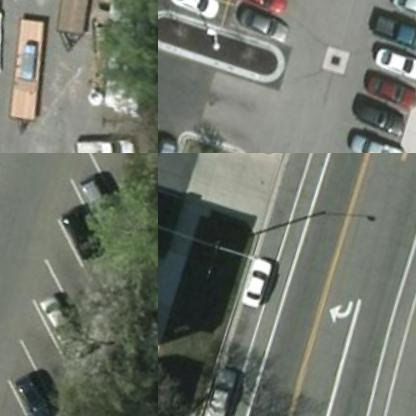car: (71, 110, 144, 152), (36, 292, 90, 345), (56, 202, 109, 255), (76, 169, 129, 222), (14, 369, 67, 415), (242, 0, 298, 39), (241, 248, 279, 305), (360, 89, 416, 127), (210, 362, 248, 415), (370, 63, 415, 102), (373, 4, 415, 43), (355, 123, 410, 152), (376, 36, 415, 75), (168, 0, 228, 18), (158, 122, 192, 152)
